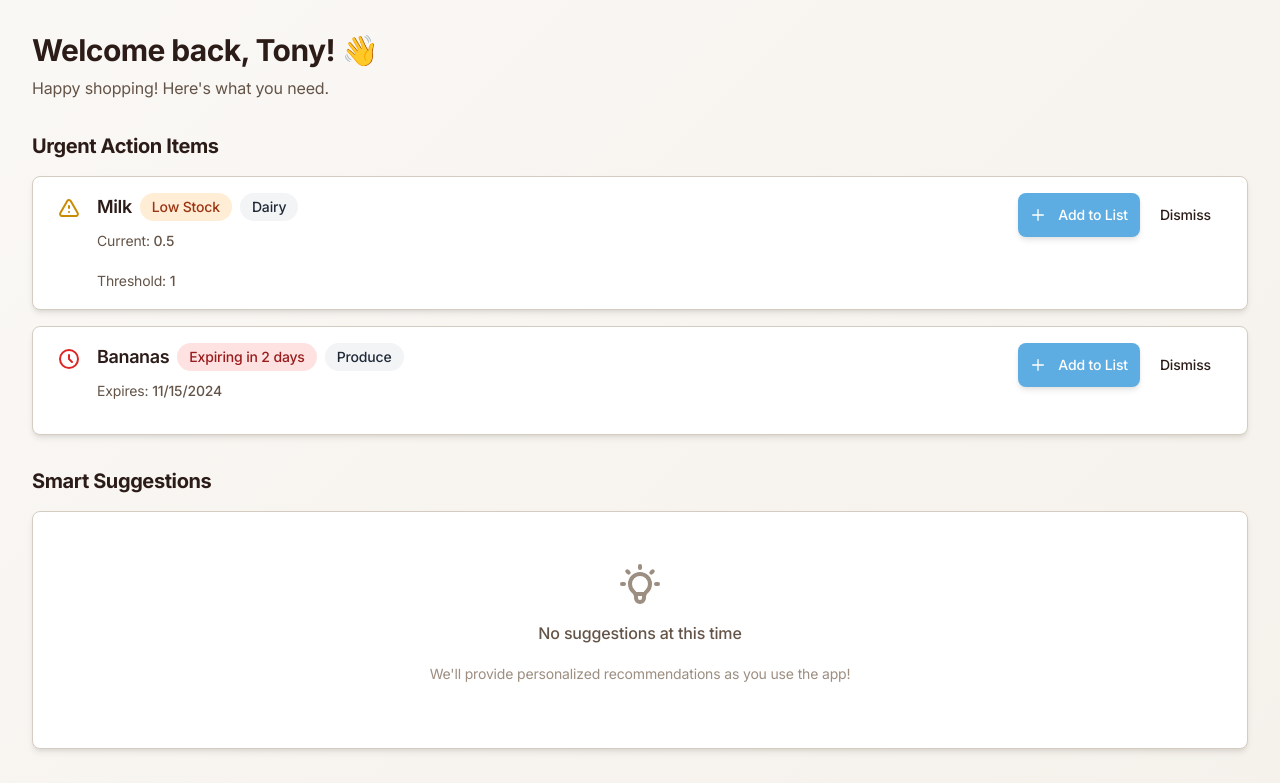
Dashboard Page › Urgent Action Items Integration › should refresh urgent items when item is dismissed
Check: the heading "Milk" is shown, box [97,193,132,221]
Click the button with aria-label "dismiss milk" at (1185, 215), box [1148,193,1223,237]
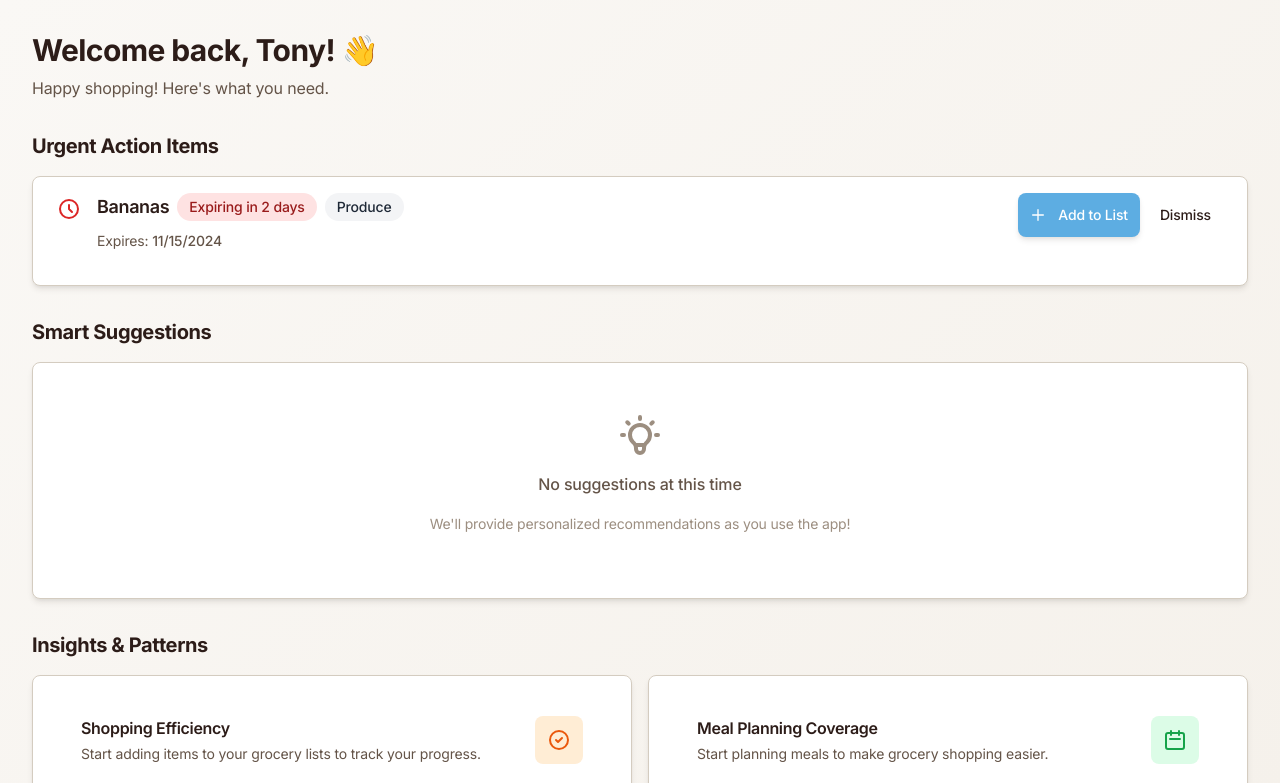
Check: the heading "Bananas" is shown, box [97,193,169,221]
Check: the heading "Milk" is gone
